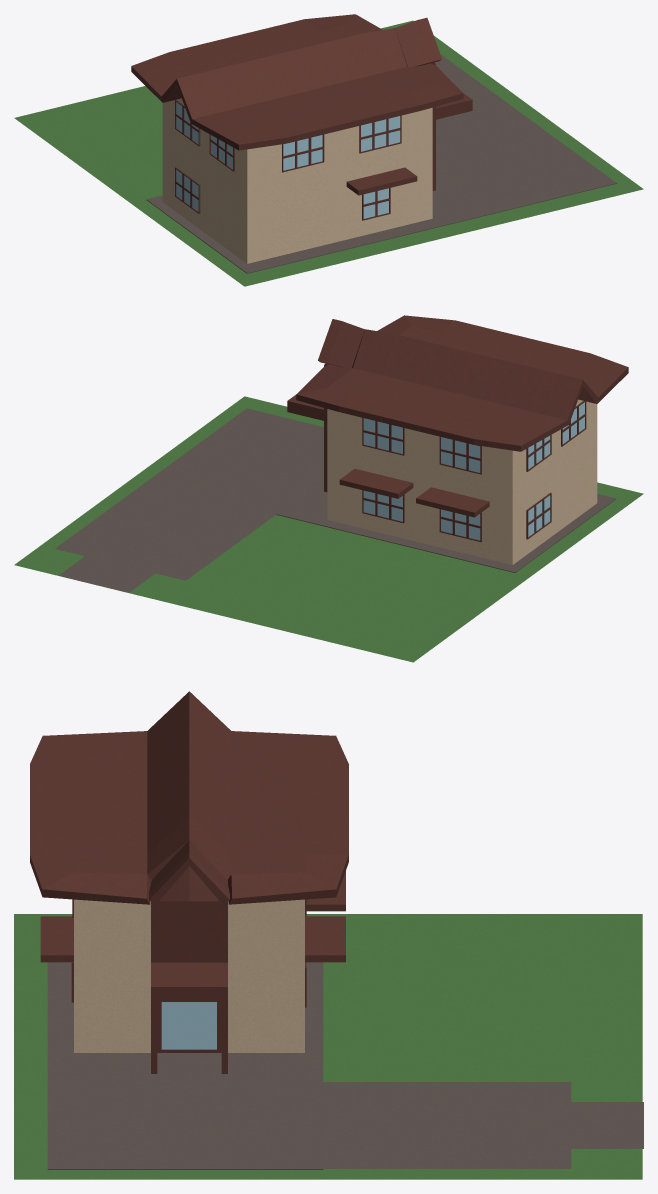
Rendered from house10.obj.
3 views of the same model, one above another, from view 1: azimuth 30°, elevation 25°; view 2: azimuth 150°, elevation 25°; view 3: azimuth 270°, elevation 25° (orthographic). The views are drawn at different scales.
Visible parts, largest first — view 1: Cube.004_Cube.112, Cube.006_Cube.113, Plane.002_Plane.014, Plane.008_Plane.006, Plane.009_Plane.006, Plane.007_Plane.007, Cube.007_Cube.002_Cube.007_Cube.003, Cube.012_Cube.119, Cube.010_Cube.002, Cube.009_Cube.002_Cube.009_Cube.010, Cube.008_Cube.002, Cube.010_Cube.003 (+1 smaller); view 2: Cube.004_Cube.112, Cube.006_Cube.113, Plane.002_Plane.014, Plane.007_Plane.007, Plane.008_Plane.006, Plane.009_Plane.006, Cube.008_Cube.001, Cube.010_Cube.001, Cube.008_Cube.115, Cube.010_Cube.117, Cube.009_Cube.001_Cube.009_Cube.009, Cube.010_Cube.003; view 3: Cube.004_Cube.112, Cube.006_Cube.113, Plane.002_Plane.014, Plane.007_Plane.007, Plane.009_Plane.006, Plane.008_Plane.006.
Boxes of the visible parts, left/top/right/bottom form: Cube.004_Cube.112: left=131, top=14, right=472, bottom=263; Cube.006_Cube.113: left=146, top=54, right=616, bottom=273; Plane.002_Plane.014: left=14, top=86, right=162, bottom=202; Plane.008_Plane.006: left=129, top=194, right=443, bottom=286; Plane.009_Plane.006: left=432, top=105, right=643, bottom=237; Plane.007_Plane.007: left=381, top=20, right=528, bottom=107; Cube.007_Cube.002_Cube.007_Cube.003: left=282, top=138, right=310, bottom=172; Cube.012_Cube.119: left=362, top=188, right=390, bottom=220; Cube.010_Cube.002: left=374, top=115, right=401, bottom=148; Cube.009_Cube.002_Cube.009_Cube.010: left=359, top=119, right=387, bottom=153; Cube.008_Cube.002: left=296, top=134, right=324, bottom=168; Cube.010_Cube.003: left=183, top=173, right=200, bottom=213; Cube.004_Cube.112: left=287, top=315, right=628, bottom=564; Cube.006_Cube.113: left=55, top=408, right=616, bottom=592; Plane.002_Plane.014: left=214, top=529, right=528, bottom=662; Plane.007_Plane.007: left=14, top=480, right=328, bottom=613; Plane.008_Plane.006: left=329, top=482, right=643, bottom=577; Plane.009_Plane.006: left=129, top=396, right=330, bottom=529; Cube.008_Cube.001: left=376, top=421, right=404, bottom=455; Cube.010_Cube.001: left=453, top=440, right=481, bottom=474; Cube.008_Cube.115: left=376, top=493, right=404, bottom=523; Cube.010_Cube.117: left=453, top=512, right=481, bottom=542; Cube.009_Cube.001_Cube.009_Cube.009: left=439, top=436, right=466, bottom=469; Cube.010_Cube.003: left=535, top=492, right=551, bottom=533; Cube.004_Cube.112: left=30, top=691, right=348, bottom=1073; Cube.006_Cube.113: left=47, top=962, right=643, bottom=1169; Plane.002_Plane.014: left=328, top=914, right=642, bottom=1046; Plane.007_Plane.007: left=328, top=1047, right=642, bottom=1179; Plane.009_Plane.006: left=14, top=1047, right=328, bottom=1179; Plane.008_Plane.006: left=14, top=914, right=328, bottom=1046.
Bounding box in the file's own units: 40.34 × 16.48 × 40.08.
